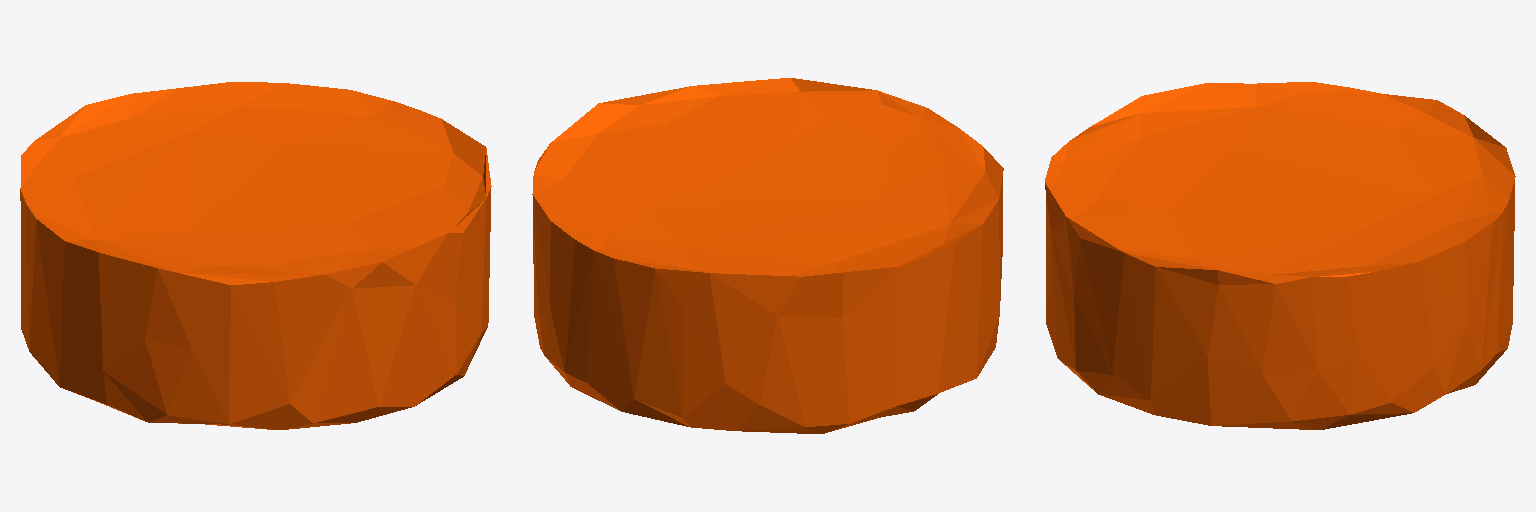
URDF robot description (007_tuna_fish_can):
<?xml version="1.0" ?>
<robot name="007_tuna_fish_can">
   <material name="obj_color">
      <color rgba="1.0 0.423529411765 0.0392156862745 1.0"/>
   </material>
   <link name="top">
      <inertial>
         <origin rpy="0.000127734309113126 0.0001279749088615172 0.0002238763465219113" xyz="9.428268505604199e-05 -0.0001457502046311959 -0.004639590024066309"/>
         <mass value="0.24875"/>
         <inertia ixx="0.0001277351032810529" ixy="1.361389941130117e-08" ixz="-4.360848619641703e-08" iyy="0.0001279741443106297" iyz="3.072046359804947e-08" izz="0.0002238763169048718"/>
      </inertial>
      <visual>
         <origin rpy="0 0 0" xyz="0 0 0"/>
         <geometry>
            <mesh filename="top_watertight_tiny.stl" scale="1 1 1"/>
         </geometry>
         <material name="obj_color"/>
      </visual>
      <collision>
         <origin rpy="0 0 0" xyz="0 0 0"/>
         <geometry>
            <mesh filename="top_watertight_tiny.obj" scale="1 1 1"/>
         </geometry>
      </collision>
   </link>
   <link name="bottom">
      <inertial>
         <origin rpy="1.633333333199431e-08 1.633333333199431e-08 1.633333333362855e-08" xyz="0.3464080000000008 0.3464080000000008 0.3464080000000008"/>
         <mass value="0.0009800000000000017"/>
         <inertia ixx="1.633333333253906e-08" ixy="5.447480642029219e-19" ixz="5.447480642029219e-19" iyy="1.633333333253906e-08" iyz="5.447480642029219e-19" izz="1.633333333253906e-08"/>
      </inertial>
      <visual>
         <origin rpy="0 0 0" xyz="0 0 0"/>
         <geometry>
            <mesh filename="bottom_watertight_tiny.stl" scale="1 1 1"/>
         </geometry>
         <material name="obj_color"/>
      </visual>
   </link>
   <link name="world"/>
   <joint name="world_to_base" type="fixed">
      <origin xyz="0 0 0"/>
      <axis xyz="0 0 0"/>
      <parent link="world"/>
      <child link="bottom"/>
   </joint>
   <joint name="rotation" type="revolute">
      <origin xyz="0 0 0"/>
      <axis xyz="0 0 -1"/>
      <parent link="bottom"/>
      <child link="top"/>
      <dynamics damping="1.0" friction="1.0"/>
      <limit effort="0.1" velocity="0.1" lower="0" upper="0.001"/>
   </joint>
</robot>

--- Render facts (derived) ---
The picture shows the robot from 3 angles, left to right: view 1: azimuth 30°, elevation 25°; view 2: azimuth 150°, elevation 25°; view 3: azimuth 270°, elevation 25°; orthographic projection.
Robot: 007_tuna_fish_can — 3 links, 2 joints (1 revolute, 1 fixed); root link world; default pose: every joint at zero.
Visible links, largest first — view 1: top; view 2: top; view 3: top.
Link boxes in pixels (x1,y1,x2,y2): top: [20, 82, 491, 429]; top: [532, 78, 1003, 433]; top: [1045, 82, 1515, 429].
Bounding box of the posed robot: 0.0841 × 0.0845 × 0.0333 m (x, y, z).
Meshes: 2 distinct files referenced, 1 mesh visuals loaded (1 binary STL); not drawn: 1 (reference not matched to a file when rendering).
